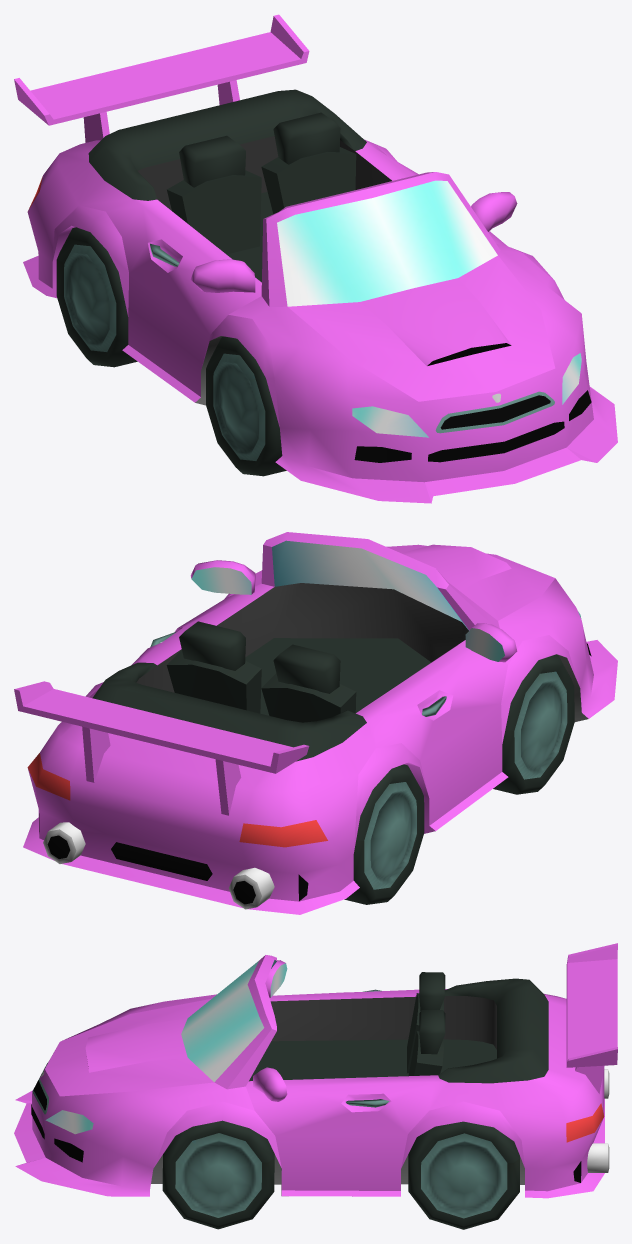
File: car4.fbx
3 renders of one model, top to bottom at view 1: azimuth 30°, elevation 25°; view 2: azimuth 150°, elevation 25°; view 3: azimuth 270°, elevation 25°, orthographic. The views are drawn at different scales.
Visible parts, largest first — view 1: Car4; view 2: Car4; view 3: Car4.
Part boxes in pixels (left/top/right/bottom): Car4: left=14, top=14, right=617, bottom=503; Car4: left=14, top=532, right=617, bottom=914; Car4: left=14, top=943, right=617, bottom=1229.
Bounding box in the file's own units: 989 × 683 × 1951.
